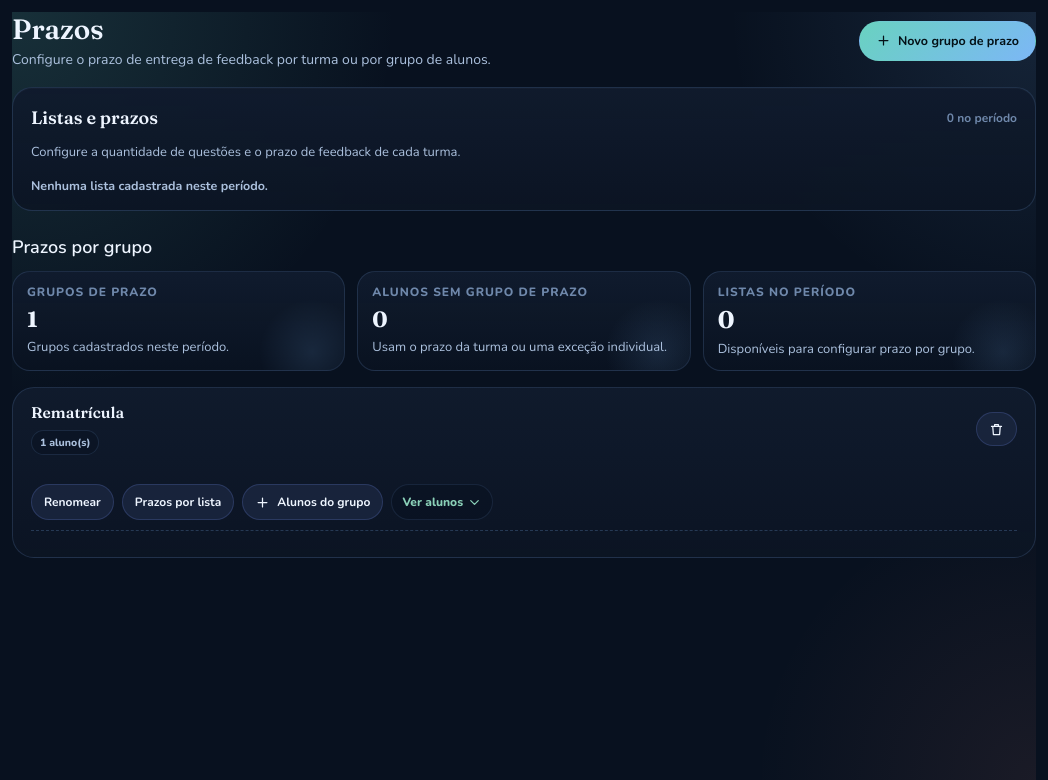
GruposPrazo › mantém os botões de ação sempre visíveis e expande a lista de alunos ao clicar em 'Ver alunos'
Check: the button "Renomear" is shown, box x1=31 y1=484 x2=114 y2=520
Check: the button "Prazos por lista" is shown, box x1=122 y1=484 x2=234 y2=520
Click the button "Ver alunos" at (442, 502), box x1=391 y1=484 x2=493 y2=520
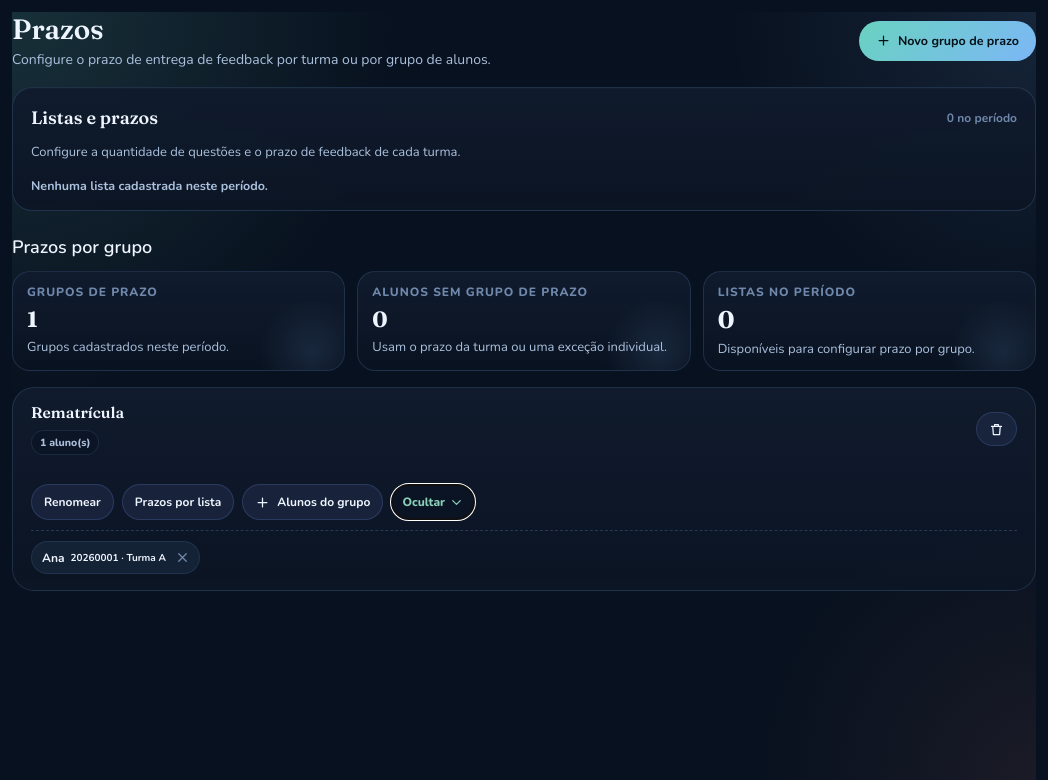
Check: the button "Ocultar" is expanded, box x1=391 y1=484 x2=475 y2=520
